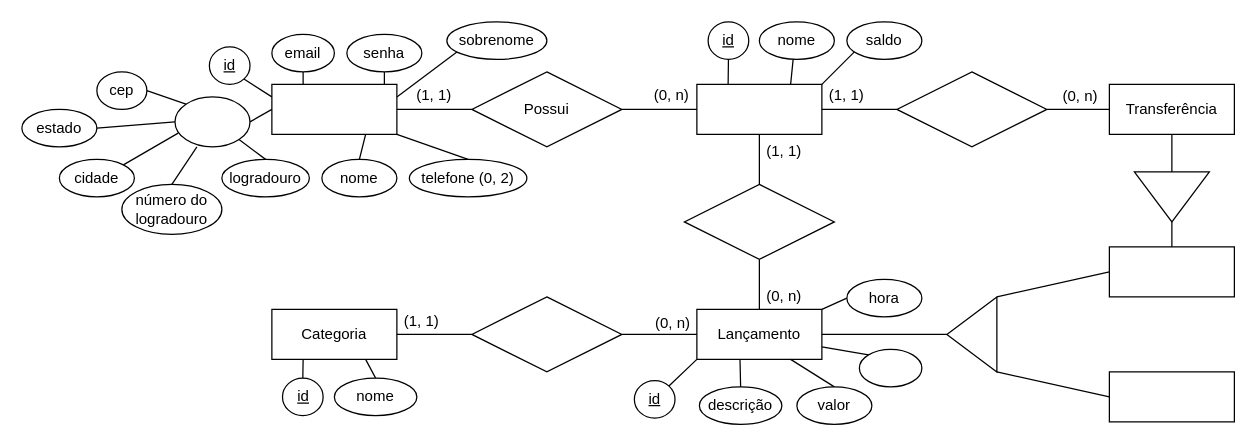
The diagram is 1256 pixels wide and 446 high, and some of its shapes have lost their labels. Each missing label, with the centre of its shape:
"Conta" belongs at [759,108].
"data" belongs at [890,367].
"endereço" belongs at [212,121].
"Entrada" belongs at [1171,396].
"Gera" belongs at [758,221].
"Pertence" belongs at [546,334].
"Realiza" belongs at [971,109].
"Saída" belongs at [1171,271].
"Usuário" belongs at [334,108].
